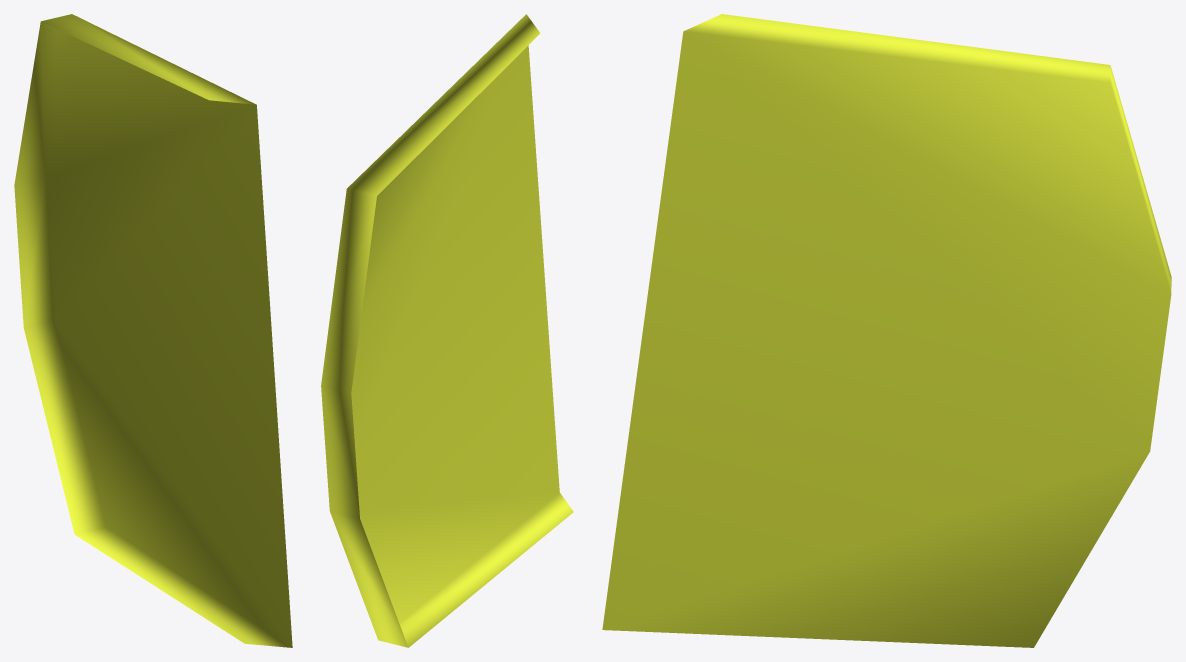
Rendered from b_polySurface644_b_BMW_i8Elite_2_621.glb.
3 renders of one model, left to right at view 1: azimuth 30°, elevation 25°; view 2: azimuth 150°, elevation 25°; view 3: azimuth 270°, elevation 25°, orthographic. The views are drawn at different scales.
Parts seen in each view (by area): view 1: b:polySurface644_b:BMW_i8Elite_2017CalliperGloss_Material1_0; view 2: b:polySurface644_b:BMW_i8Elite_2017CalliperGloss_Material1_0; view 3: b:polySurface644_b:BMW_i8Elite_2017CalliperGloss_Material1_0.
Boxes of the visible parts, x1,y1,x2,y2 form: b:polySurface644_b:BMW_i8Elite_2017CalliperGloss_Material1_0: [14, 14, 292, 647]; b:polySurface644_b:BMW_i8Elite_2017CalliperGloss_Material1_0: [321, 14, 573, 647]; b:polySurface644_b:BMW_i8Elite_2017CalliperGloss_Material1_0: [602, 14, 1171, 647].
Size of the model in its own units: 0.00562 by 0.0896 by 0.075.
